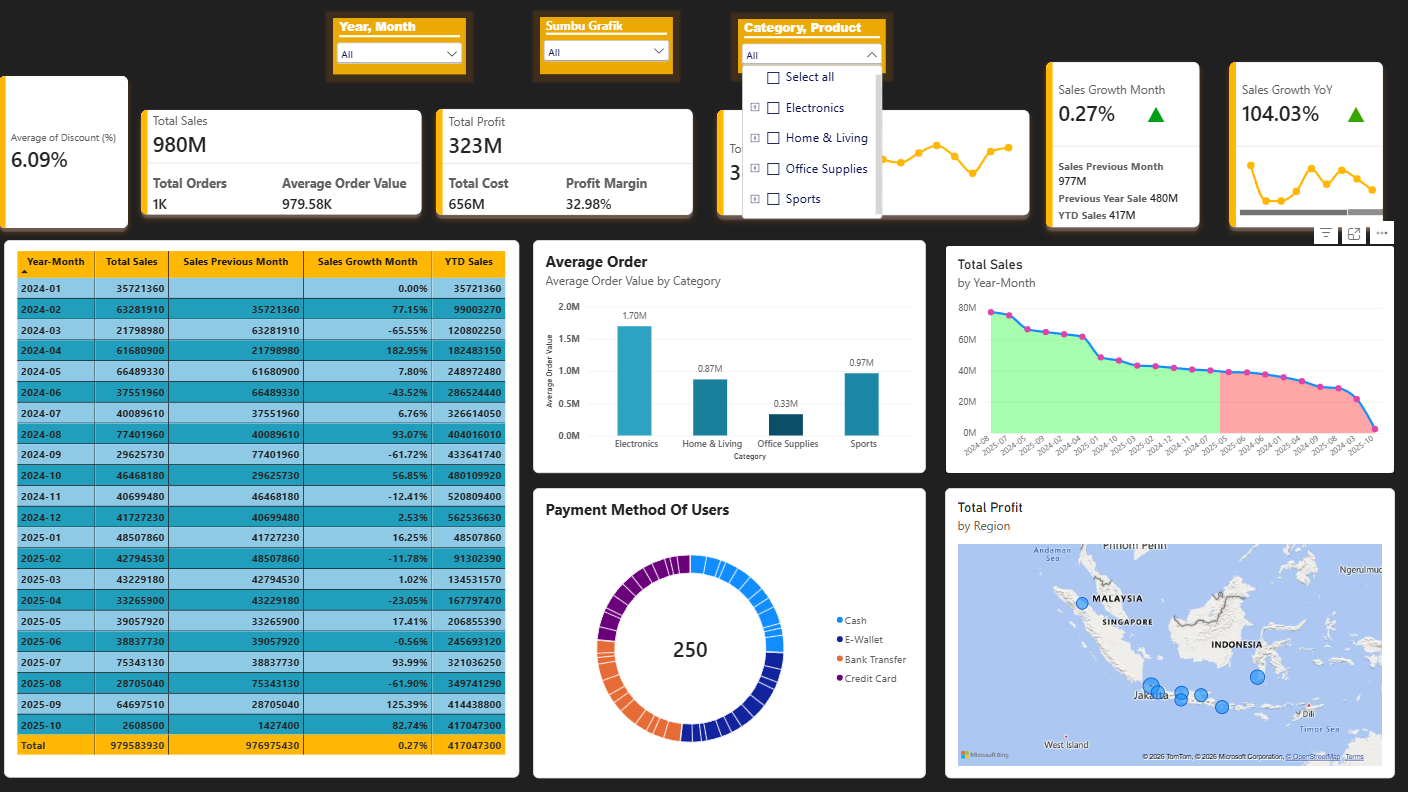

The dashboard page shown, as its layout file describes it:
{"tool":"powerbi","page":{"name":"Duplicate of Duplicate of Dashboard","canvas":[1920,1080],"ordinal":3},"visuals":[{"type":"cardVisual","fields":{"Data":["Sales_Data.Total Sales"]},"box":[191.2,145.4,410.7,173.7],"z":0},{"type":"cardVisual","fields":{"Data":["Sales_Data.Total Profit"]},"box":[588.6,143.9,378.4,175.1],"z":1000},{"type":"cardVisual","fields":{"Data":["Sales_Data.Sales Growth Month","Sales_Data.Sales Growth YoY"]},"box":[1409.4,81.1,486.1,255.9],"z":2000},{"type":"lineChart","fields":{"Category":["Calendar.Year-Month"],"Y":["Sales_Data.Total Sales"]},"box":[1290,342.9,606,308.4],"z":4000},{"type":"tableEx","fields":{"Values":["Calendar.Year-Month","Sales_Data.Total Sales","Sales_Data.Sales Previous Month","Sales_Data.Sales Growth Month","Sales_Data.YTD Sales"]},"box":[22.9,337.1,694.3,724.3],"z":5000},{"type":"cardVisual","fields":{"Data":["Sales_Data.Total Quality"]},"box":[967.3,145.5,453.6,174.5],"z":6000},{"type":"clusteredColumnChart","title":"Average Order","fields":{"Category":["Sales_Data.Category","Sales_Data.Payment Method","Sales_Data.Product"],"Y":["Sales_Data.Average Order Value"]},"box":[735.7,337.1,528.6,314.3],"z":7000},{"type":"map","fields":{"Category":["Sales_Data.Region"],"Size":["Sales_Data.Total Profit"]},"box":[1290,670,605.7,391.4],"z":8000},{"type":"donutChart","title":"Payment Method  Of Users","fields":{"Category":["Sales_Data.Payment Method"],"Series":["Calendar.Month"],"Y":["Count(Sales_Data.Customer ID)"]},"box":[735.7,670,528.6,391.4],"z":9000},{"type":"cardVisual","fields":{"Data":["Sales_Data.Indikator Clicks"]},"box":[1545.7,151.4,62.9,30],"z":10000},{"type":"cardVisual","fields":{"Data":["Sales_Data.YoY Indikator Clicks"]},"box":[1815.7,145.7,58.6,41.4],"z":11000},{"type":"slicer","fields":{"Values":["Calendar.Year","Calendar.Month"]},"box":[465.7,37.1,178.6,75.7],"z":12000},{"type":"slicer","fields":{"Values":["Sumbu Grafik.Sumbu Grafik"]},"box":[745,36,178.7,77.3],"z":13000},{"type":"slicer","fields":{"Values":["Sales_Data.Category","Sales_Data.Product"]},"box":[1011.4,38.6,198.6,72.9],"z":14000},{"type":"lineChart","fields":{"Category":["Calendar.Month"],"Y":["Sales_Data.Total Quality"]},"box":[1084.5,170,317.3,124.5],"z":15501},{"type":"cardVisual","fields":{"Data":["Avg(Sales_Data.Discount (%))"]},"box":[0,99.7,206,237],"z":15503},{"type":"lineChart","fields":{"Category":["Calendar.Month"],"Y":["Sales_Data.Sales Growth YoY"]},"box":[1671.2,195.3,224.9,123.9],"z":15504}]}

Visuals, with their boxes in screenshot pixels (x1, y1, x2, y2), scaled from the page's 1920x1080 canvas onto the 1408x792 screenshot:
cardVisual - Sales_Data.Total Sales: x1=140 y1=107 x2=441 y2=234
cardVisual - Sales_Data.Total Profit: x1=432 y1=106 x2=709 y2=234
cardVisual - Sales_Data.Sales Growth Month x Sales_Data.Sales Growth YoY: x1=1034 y1=59 x2=1390 y2=247
lineChart - Calendar.Year-Month x Sales_Data.Total Sales: x1=946 y1=251 x2=1390 y2=478
tableEx - Calendar.Year-Month x Sales_Data.Total Sales: x1=17 y1=247 x2=526 y2=778
cardVisual - Sales_Data.Total Quality: x1=709 y1=107 x2=1042 y2=235
"Average Order" clusteredColumnChart: x1=540 y1=247 x2=927 y2=478
map - Sales_Data.Region x Sales_Data.Total Profit: x1=946 y1=491 x2=1390 y2=778
"Payment Method  Of Users" donutChart: x1=540 y1=491 x2=927 y2=778
cardVisual - Sales_Data.Indikator Clicks: x1=1134 y1=111 x2=1180 y2=133
cardVisual - Sales_Data.YoY Indikator Clicks: x1=1332 y1=107 x2=1374 y2=137
slicer - Calendar.Year x Calendar.Month: x1=342 y1=27 x2=472 y2=83
slicer - Sumbu Grafik.Sumbu Grafik: x1=546 y1=26 x2=677 y2=83
slicer - Sales_Data.Category x Sales_Data.Product: x1=742 y1=28 x2=887 y2=82
lineChart - Calendar.Month x Sales_Data.Total Quality: x1=795 y1=125 x2=1028 y2=216
cardVisual - Avg(Sales_Data.Discount (%)): x1=0 y1=73 x2=151 y2=247
lineChart - Calendar.Month x Sales_Data.Sales Growth YoY: x1=1226 y1=143 x2=1390 y2=234
